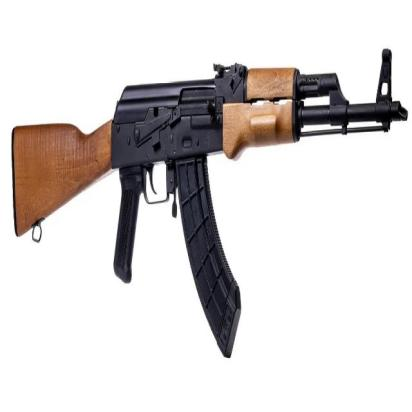Gun: (12, 49, 407, 360)
